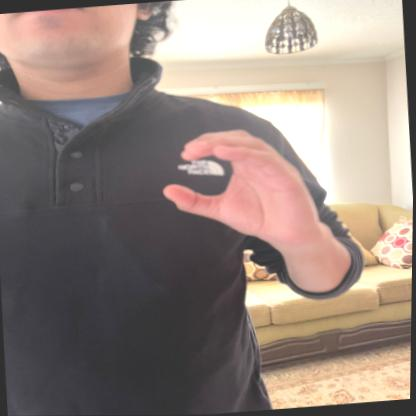C: (158, 120, 322, 253)
